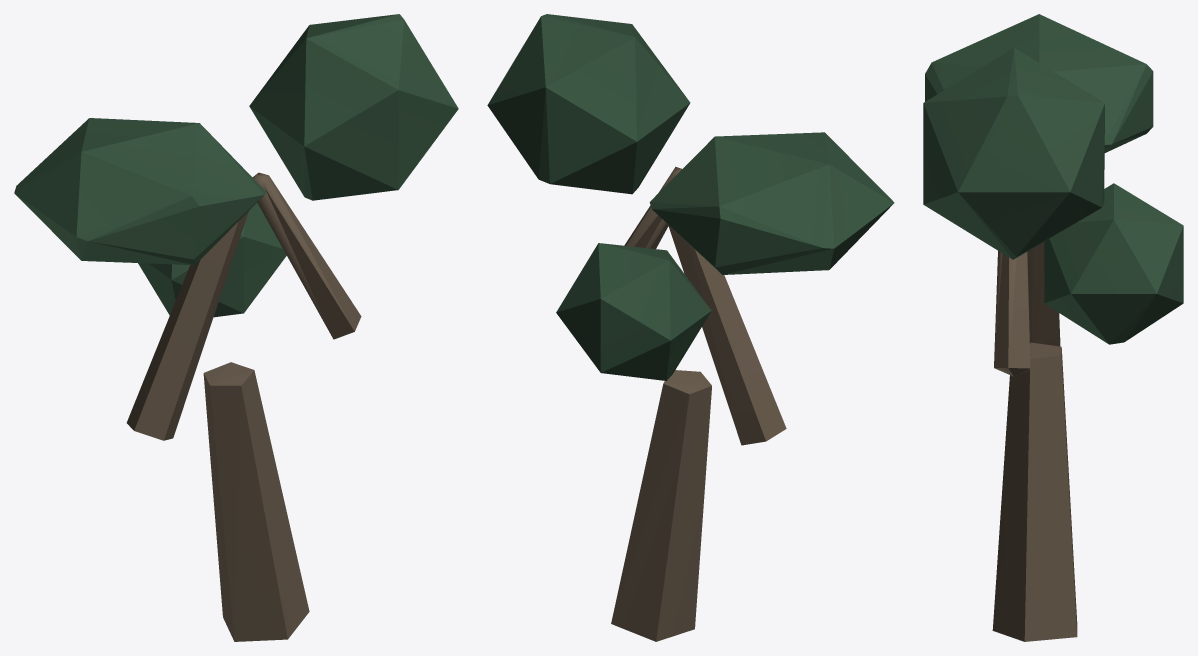
File: prop_juniper_lod2.glb
3 renders of one model, left to right at view 1: azimuth 30°, elevation 25°; view 2: azimuth 150°, elevation 25°; view 3: azimuth 270°, elevation 25°, orthographic. The views are drawn at different scales.
Visible parts, largest first — view 1: prop_juniper_lod2; view 2: prop_juniper_lod2; view 3: prop_juniper_lod2.
Part boxes in pixels (bbox=[...]): prop_juniper_lod2: bbox=[14, 14, 458, 641]; prop_juniper_lod2: bbox=[487, 14, 894, 641]; prop_juniper_lod2: bbox=[923, 14, 1183, 641].
Size of the model in its own units: 1.76 by 2.67 by 1.04.
